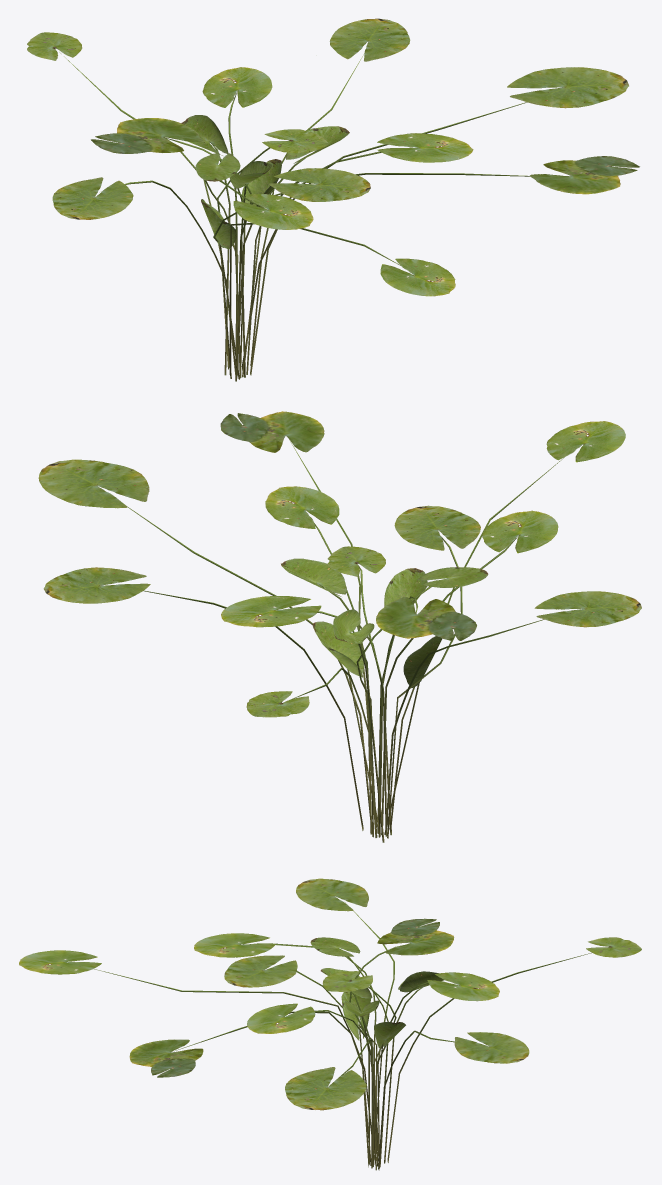
The model's file is SM_Plant_Water_01.fbx.
3 renders of one model, top to bottom at view 1: azimuth 30°, elevation 25°; view 2: azimuth 150°, elevation 25°; view 3: azimuth 270°, elevation 25°, orthographic. The views are drawn at different scales.
Visible parts, largest first — view 1: SM_Plant_Water_01; view 2: SM_Plant_Water_01; view 3: SM_Plant_Water_01.
Part boxes in pixels (left/top/right/bottom): SM_Plant_Water_01: left=27, top=18, right=639, bottom=381; SM_Plant_Water_01: left=38, top=411, right=641, bottom=842; SM_Plant_Water_01: left=19, top=878, right=641, bottom=1170.
Size of the model in its own units: 324 by 355 by 125.
Materials: 1 (1 with a texture image).
